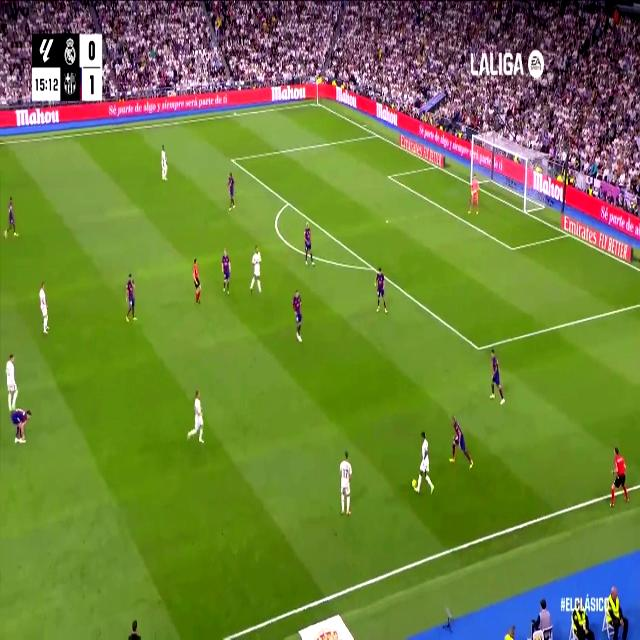bigarea_bottom_inner: (473, 336, 484, 359)
bigarea_top_inner: (230, 153, 234, 165)
bigarea_top_outter: (373, 128, 381, 140)
bottom_arc_area_intersection: (368, 258, 376, 276)
corner: (314, 98, 321, 106)
smallarea_top_inner: (388, 172, 392, 181)
top_arc_area_intersection: (285, 195, 291, 209)
